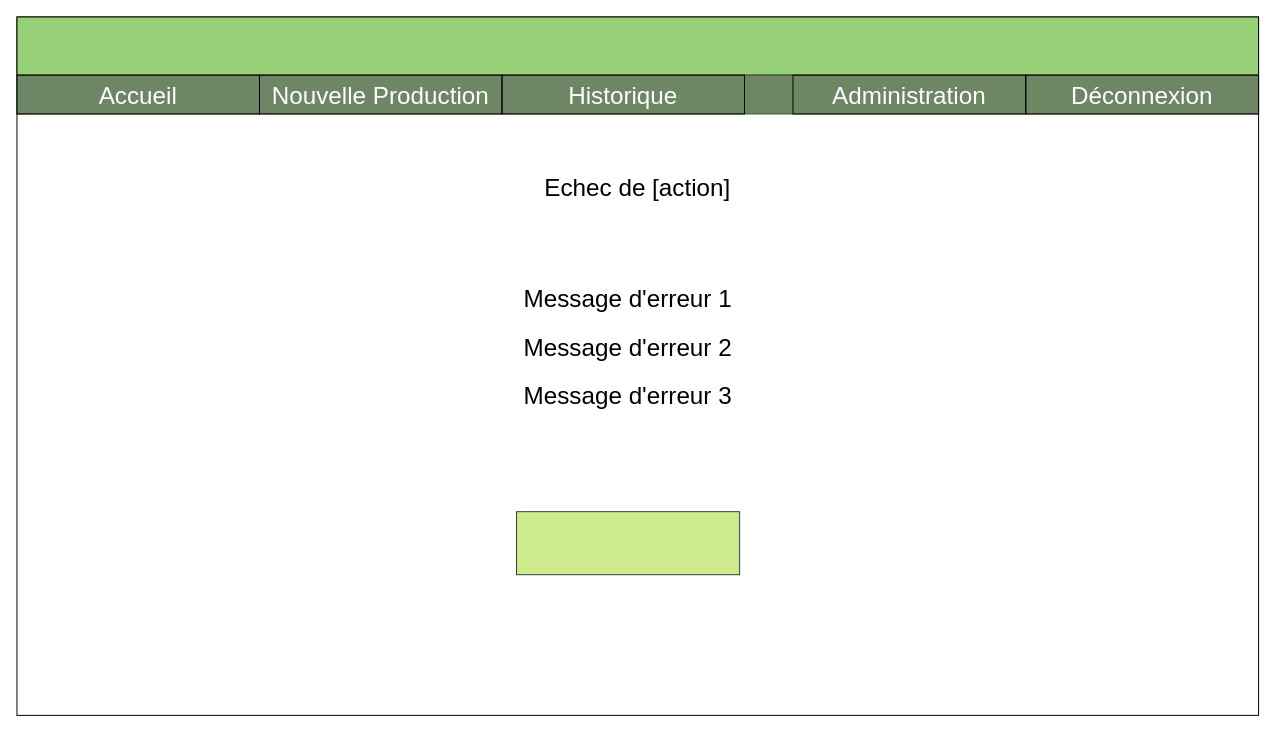
Some shapes in this 1276 by 732 pixel diagram are drawn without their labels. The centre of each missing label's shape, as x and y in pixels:
"Gestion de production" belongs at point (637, 45).
"Retour" belongs at point (628, 543).
